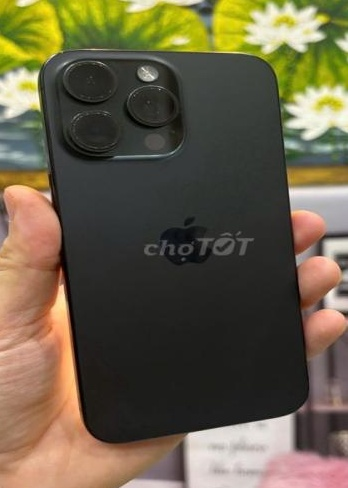scratch: (62, 58, 187, 164)
